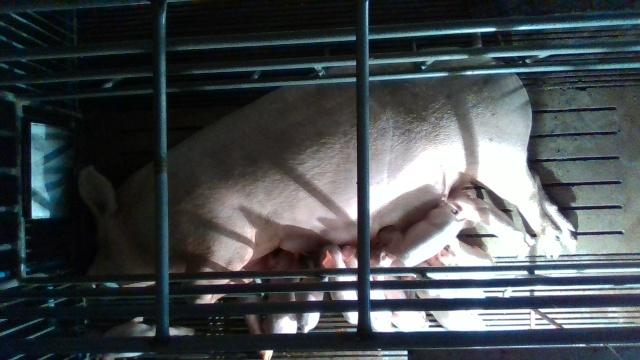piglet: (391, 187, 480, 267), (455, 187, 535, 257), (370, 250, 428, 333), (319, 245, 359, 326), (262, 249, 297, 333), (295, 255, 328, 332), (277, 297, 330, 300)
sow-sleep-lactate: (78, 59, 576, 360)
